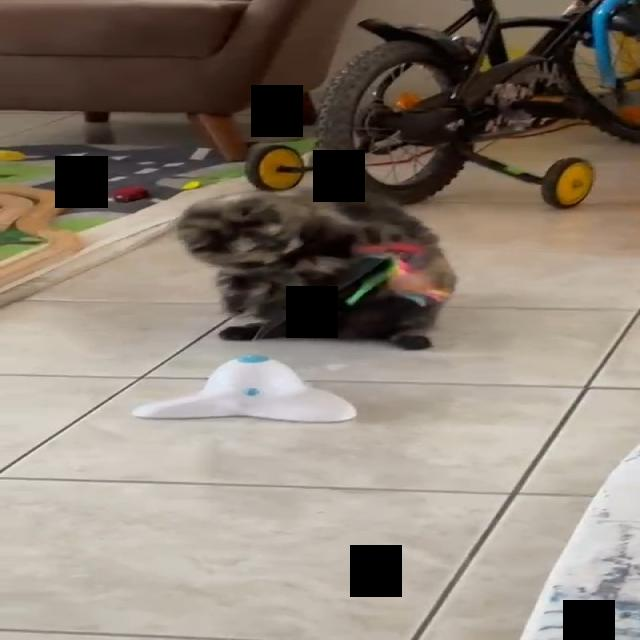authorized: (175, 186, 457, 350)
